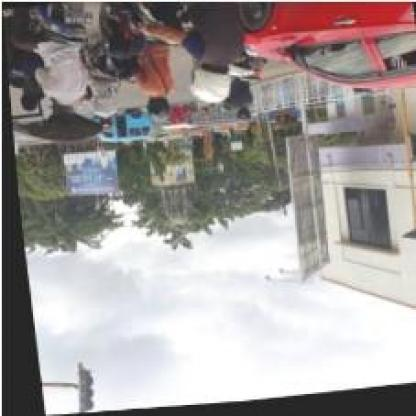red: (68, 370, 86, 412)
